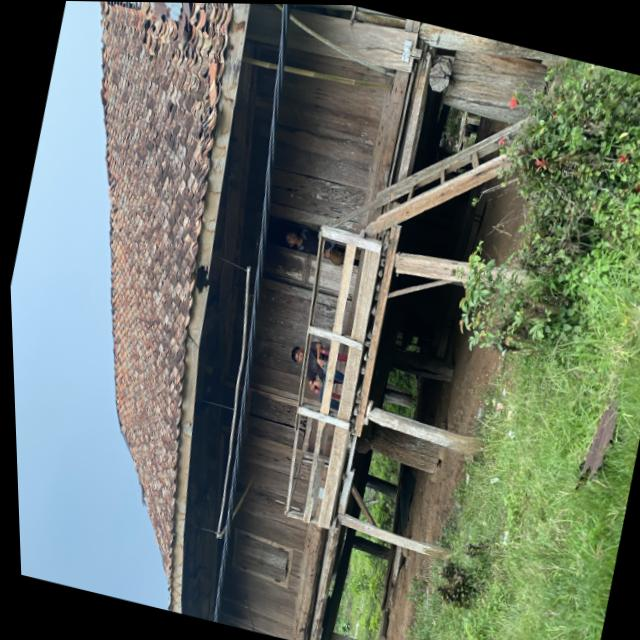Atap: (101, 1, 249, 612)
Ornamen: (284, 223, 382, 528)
Tangga: (365, 123, 518, 237)
Tembok Bangunan: (182, 4, 418, 640)
